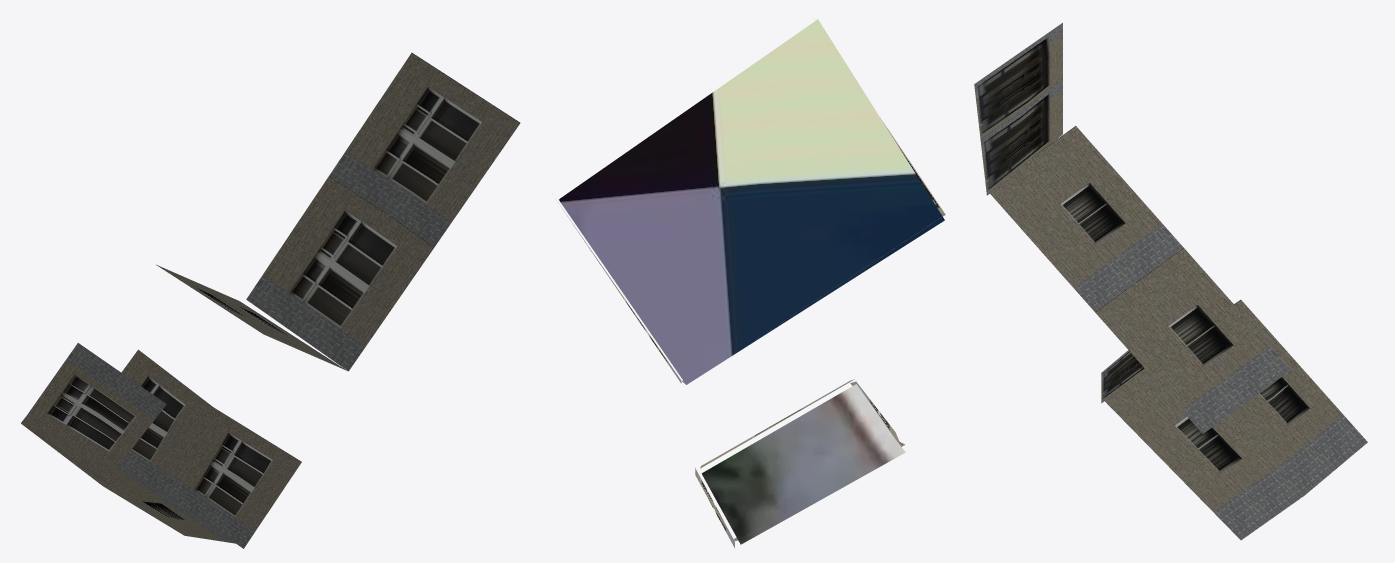
The model's file is tile_LOD4_r11_c7.glb.
3 views of the same model, side by side, from view 1: azimuth 30°, elevation 25°; view 2: azimuth 150°, elevation 25°; view 3: azimuth 270°, elevation 25° (orthographic). The views are drawn at different scales.
Size of the model in its own units: 19 by 23 by 16.
6 materials, 6 textured.
